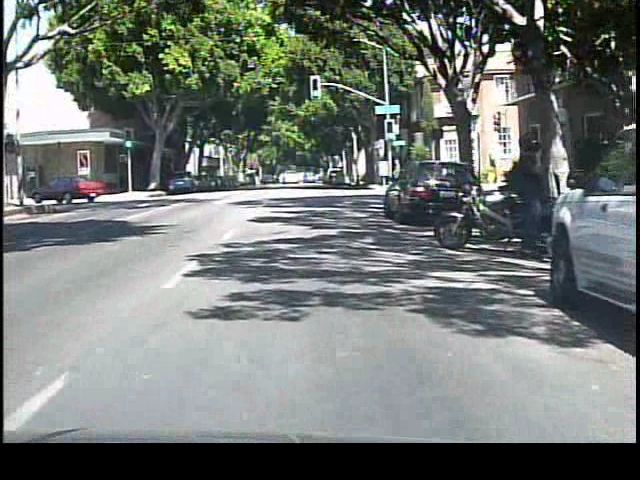person: (503, 127, 549, 265), (387, 154, 404, 190)
